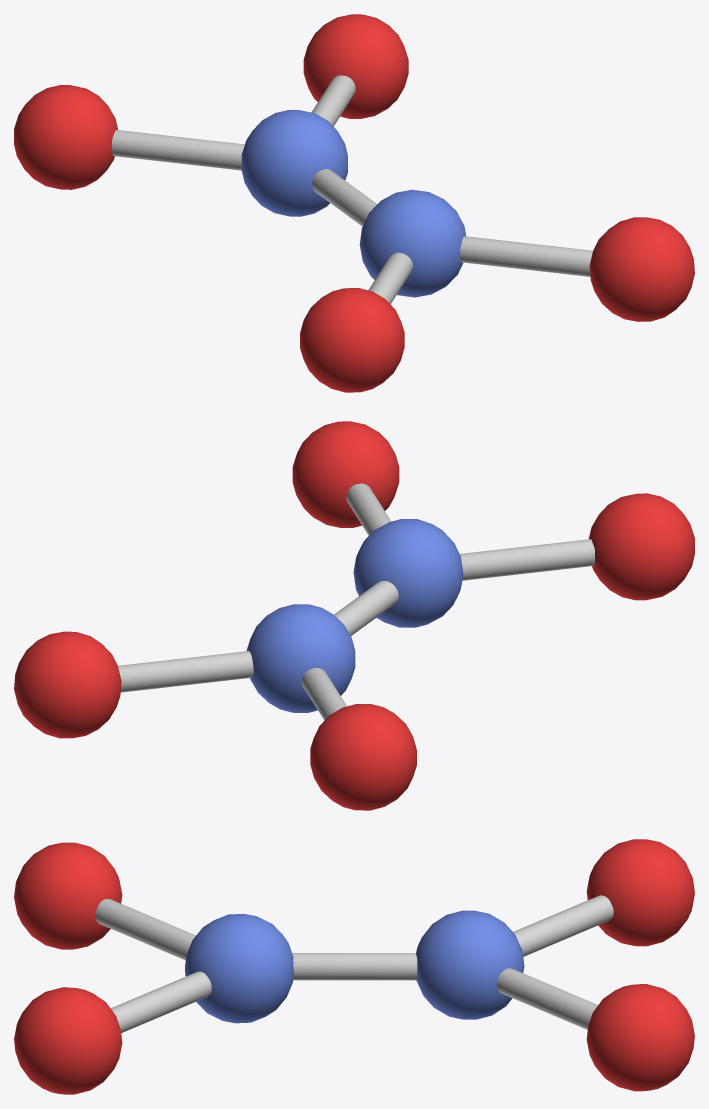
The picture shows the model from 3 angles, top to bottom: view 1: azimuth 30°, elevation 25°; view 2: azimuth 150°, elevation 25°; view 3: azimuth 270°, elevation 25°; orthographic projection. The views are drawn at different scales.
Parts seen in each view (by area): view 1: Atom_2_O, Atom_3_O, Atom_5_O, Atom_5_N, Atom_0_N, Atom_2_O_001, Bond, Bond_004, Bond_002, Bond_001, Bond_003; view 2: Atom_2_O_001, Atom_5_O, Atom_3_O, Atom_0_N, Atom_5_N, Atom_2_O, Bond_003, Bond_001, Bond_002, Bond_004, Bond; view 3: Atom_2_O_001, Atom_2_O, Atom_0_N, Atom_5_N, Atom_5_O, Atom_3_O, Bond_002, Bond_003, Bond, Bond_001, Bond_004.
Part boxes in pixels (x1,y1,x2,y2): Atom_2_O: (589,217,694,321); Atom_3_O: (300,288,404,392); Atom_5_O: (14,85,117,189); Atom_5_N: (241,110,347,216); Atom_0_N: (359,189,466,297); Atom_2_O_001: (303,14,408,118); Bond: (460,236,592,276); Bond_004: (112,130,244,170); Bond_002: (312,169,377,226); Bond_001: (368,252,412,304); Bond_003: (311,75,355,126); Atom_2_O_001: (14,631,121,738); Atom_5_O: (310,704,416,810); Atom_3_O: (588,493,694,600); Atom_0_N: (353,519,463,627); Atom_5_N: (246,604,355,712); Atom_2_O: (292,421,399,527); Bond_003: (118,651,253,692); Bond_001: (460,539,594,580); Bond_002: (334,581,398,635); Bond_004: (301,668,346,720); Bond: (346,483,391,535); Atom_2_O_001: (586,984,694,1091); Atom_2_O: (14,987,122,1094); Atom_0_N: (185,914,293,1023); Atom_5_N: (416,910,524,1019); Atom_5_O: (586,839,694,946); Atom_3_O: (14,842,122,949); Bond_002: (292,953,417,980); Bond_003: (497,968,597,1029); Bond: (111,971,211,1032); Bond_001: (95,898,195,960); Bond_004: (513,895,613,956).
Bounding box in the file's own units: 2.57 × 0.62 × 3.82.
